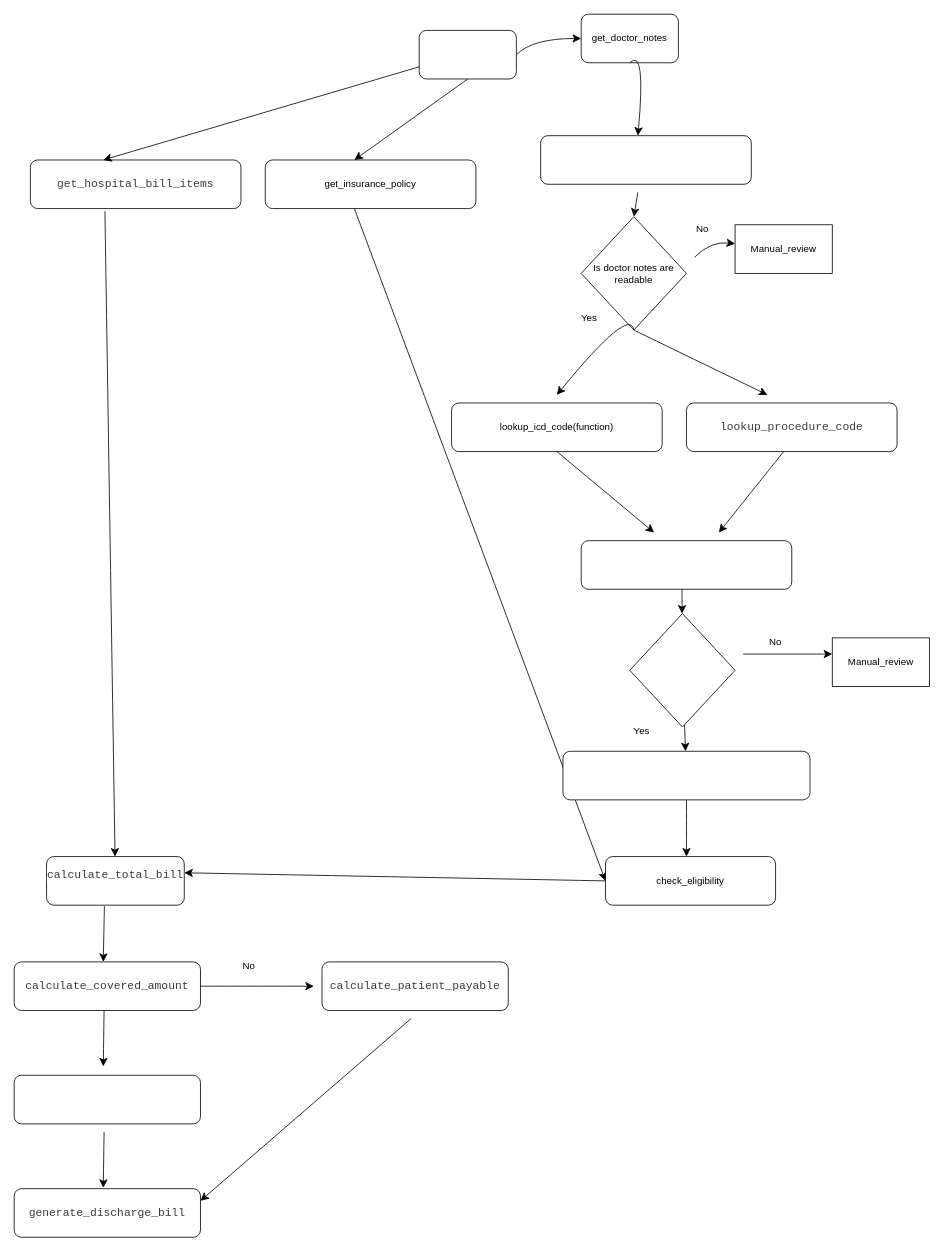
Image size: 944x1251. Some labels were removed from this diagram. The box of each missing label's shape, as (x1, y1, x2, y2) in pixels:
check_diagnosis_treatment_consistency: (562, 750, 810, 800)
extract_diagnosis_and_treatment: (540, 135, 751, 184)
generate_claim_form: (13, 1074, 200, 1124)
get_doctor_signoff_status: (580, 540, 792, 589)
get_patient_record: (418, 30, 516, 79)
Signoff successful: (629, 613, 735, 727)
